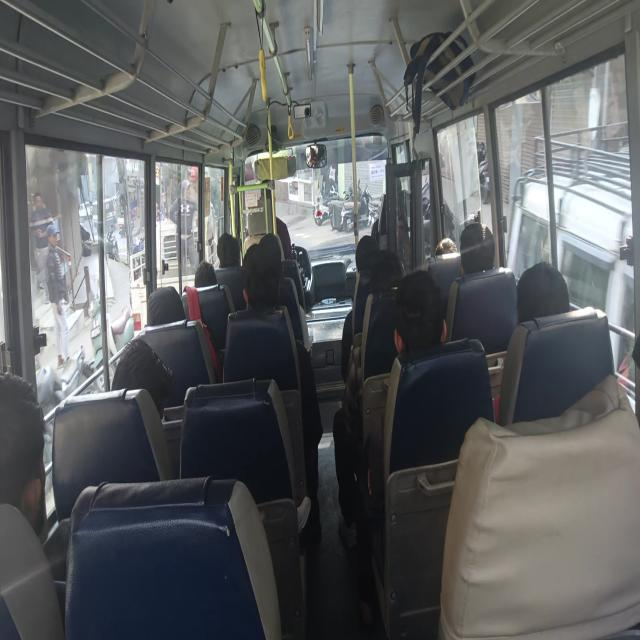person: (2, 370, 58, 533), (109, 332, 185, 416), (390, 274, 455, 352), (514, 256, 572, 322), (243, 242, 288, 304), (462, 221, 496, 275), (146, 283, 185, 326), (252, 228, 284, 274), (354, 227, 383, 275), (346, 282, 371, 324), (216, 230, 243, 266), (434, 235, 462, 268), (256, 171, 278, 211), (195, 252, 220, 286), (382, 171, 407, 204)
